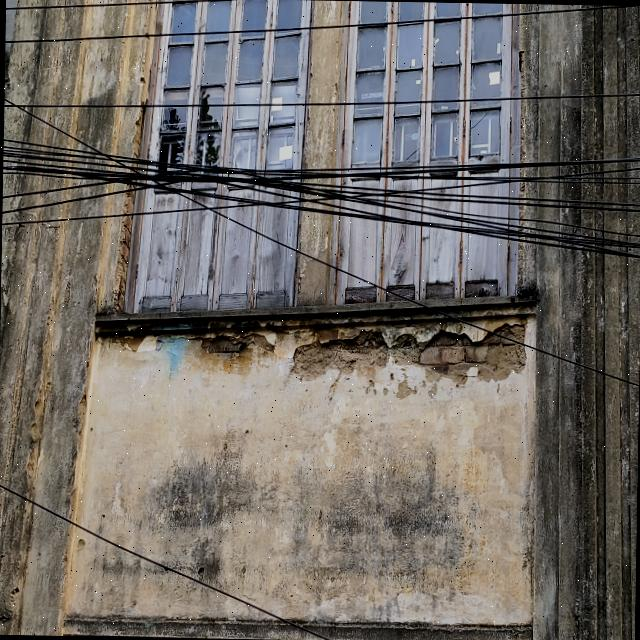peeling: (289, 323, 525, 386), (201, 333, 278, 359)
